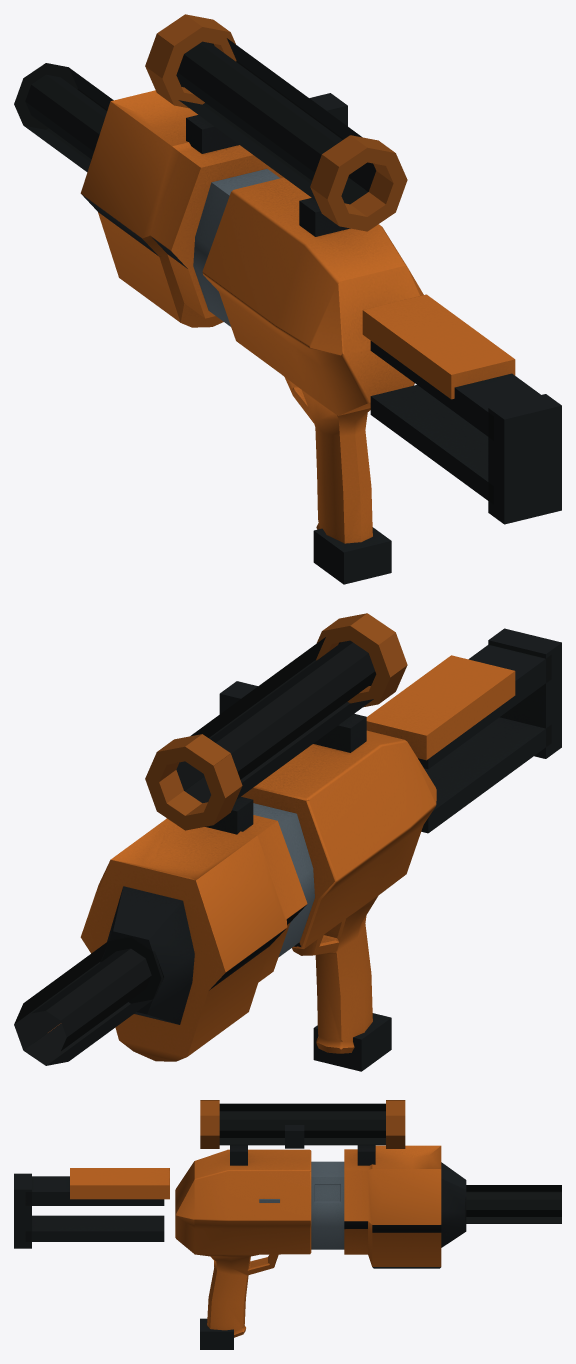
Rendered from scout_pistol.glb.
The picture shows the model from 3 angles, top to bottom: view 1: azimuth 30°, elevation 25°; view 2: azimuth 150°, elevation 25°; view 3: azimuth 270°, elevation 25°; orthographic projection. The views are drawn at different scales.
Parts seen in each view (by area): view 1: scout_pistol, InsertedAmmo; view 2: scout_pistol, InsertedAmmo; view 3: scout_pistol, InsertedAmmo.
Boxes of the visible parts, left/top/right/bottom form: scout_pistol: left=14, top=14, right=561, bottom=543; InsertedAmmo: left=313, top=527, right=391, bottom=584; scout_pistol: left=14, top=613, right=561, bottom=1065; InsertedAmmo: left=313, top=1013, right=391, bottom=1071; scout_pistol: left=14, top=1100, right=561, bottom=1337; InsertedAmmo: left=200, top=1318, right=233, bottom=1349.
Bounding box in the file's own units: 0.119 × 0.3378 × 0.6921.
Materials: 1 (1 with a texture image).
